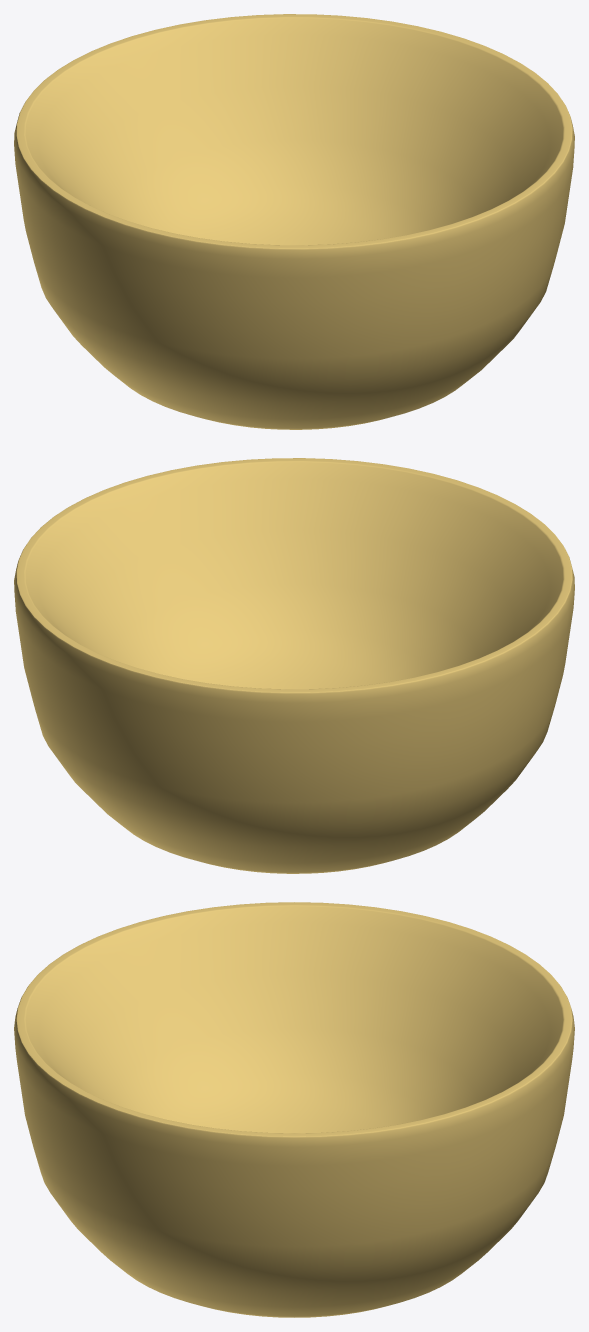
The model's file is bowl_V2.fbx.
The picture shows the model from 3 angles, top to bottom: view 1: azimuth 30°, elevation 25°; view 2: azimuth 150°, elevation 25°; view 3: azimuth 270°, elevation 25°; orthographic projection.
Parts seen in each view (by area): view 1: bowl_V3_GEO_01; view 2: bowl_V3_GEO_01; view 3: bowl_V3_GEO_01.
Part boxes in pixels (<box>): bowl_V3_GEO_01: <box>14,14,574,429</box>; bowl_V3_GEO_01: <box>14,458,574,873</box>; bowl_V3_GEO_01: <box>14,902,574,1317</box>.
Size of the model in its own units: 12.35 by 5.91 by 12.35.
